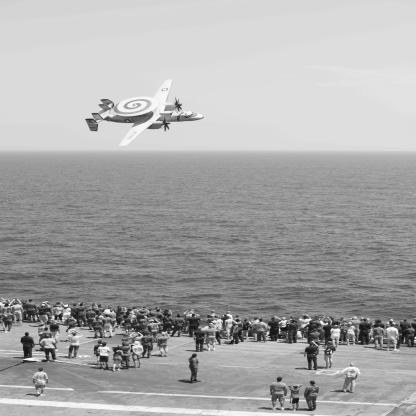E2: (86, 80, 205, 147)
